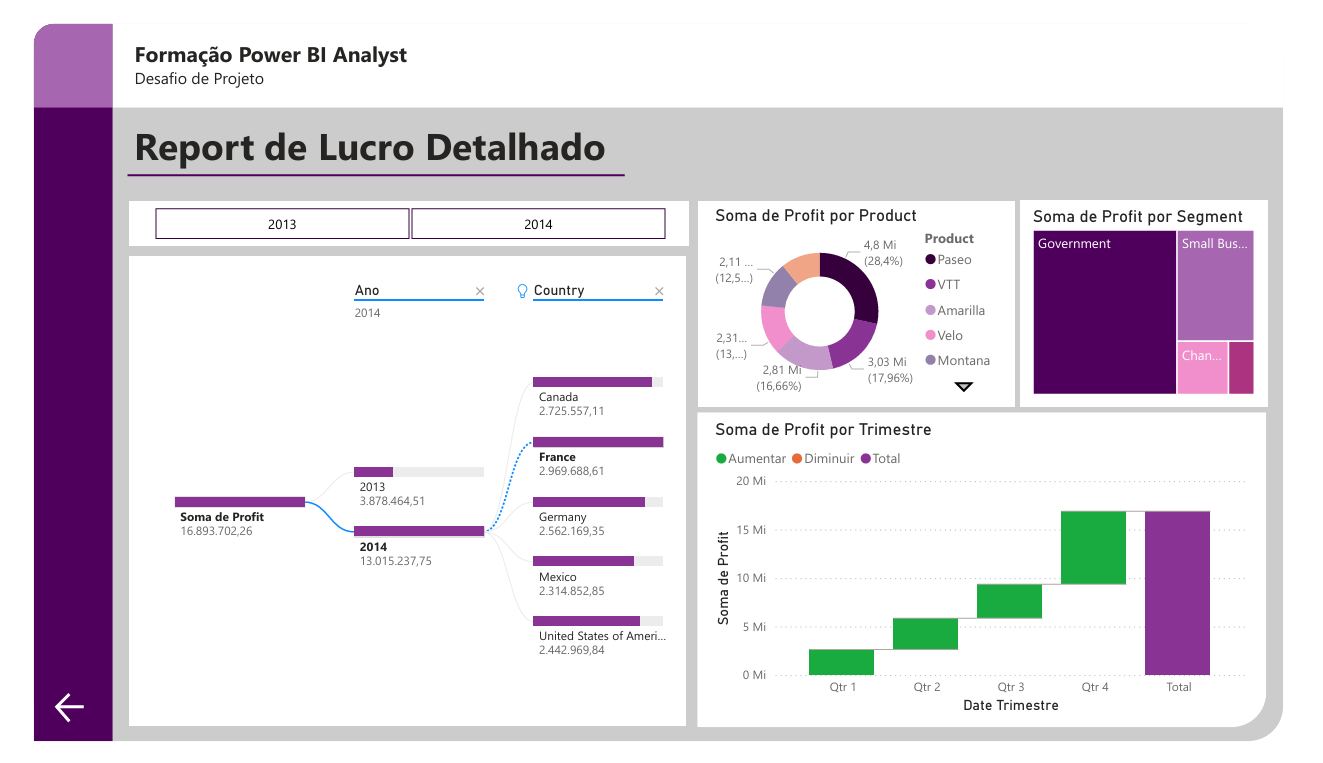

The page's visual inventory and layout, read from the dashboard file:
{"tool":"powerbi","page":{"name":"Página 2","canvas":[1280,720],"ordinal":1},"visuals":[{"type":"group","id":"g1","title":"Fundo","box":[11.4,0,1254.3,720],"z":0},{"type":"shape","box":[11.4,0,1254.3,720],"z":0,"group":"g1"},{"type":"textbox","box":[107.3,9.6,300,66.1],"z":0,"group":"g2"},{"type":"shape","box":[11.4,0,78.7,720],"z":1000,"group":"g1"},{"type":"group","id":"g2","title":"Caixas de textos","box":[106.9,9.6,495.6,143.5],"z":1000},{"type":"textbox","box":[106.9,91.8,495.6,61.3],"z":1000,"group":"g2"},{"type":"shape","box":[11.4,0,78.7,84],"z":2000,"group":"g1"},{"type":"shape","box":[677.1,390,571,315.7],"z":2000},{"type":"shape","box":[90.1,0,1175.6,84],"z":3000,"group":"g1"},{"type":"shape","box":[1001.4,177.1,247.1,207.1],"z":3000},{"type":"shape","box":[677.8,177.8,318,206.7],"z":4000},{"type":"slicer","fields":{"Values":["financials.Date.Variation.Hierarquia de datas.Ano"]},"box":[107.2,178,562.6,45],"z":4000,"group":"g1"},{"type":"shape","box":[105.1,144.5,499,15.7],"z":5000,"group":"g1"},{"type":"shape","box":[107,234,559,471],"z":5000},{"type":"decompositionTreeVisual","fields":{"Analyze":["Sum(financials.Profit)"],"ExplainBy":["financials.Date.Variation.Hierarquia de datas.Ano","financials.Country"]},"box":[123,242,529,454],"z":6000},{"type":"actionButton","box":[28.4,666.5,44.4,39.5],"z":7000},{"type":"donutChart","fields":{"Category":["financials.Product"],"Y":["Sum(financials.Profit)"]},"box":[690,182.2,296.7,194.4],"z":8000},{"type":"treemap","fields":{"Values":["Sum(financials.Profit)"],"Group":["financials.Segment"]},"box":[1008.6,182.9,232,194.3],"z":9000},{"type":"waterfallChart","fields":{"Y":["Sum(financials.Profit)"],"Category":["financials.Date.Variation.Hierarquia de datas.Trimestre"]},"box":[690,397.1,542.9,300],"z":10000}]}

Visuals, with their boxes in screenshot pixels (x1, y1, x2, y2), scaled from the page's 1280x720 canvas onto the 1323x763 screenshot:
"Fundo" group: bbox=(12, 0, 1308, 762)
shape: bbox=(12, 0, 1308, 762)
textbox: bbox=(111, 10, 421, 80)
shape: bbox=(12, 0, 93, 762)
"Caixas de textos" group: bbox=(110, 10, 623, 162)
textbox: bbox=(110, 97, 623, 162)
shape: bbox=(12, 0, 93, 89)
shape: bbox=(700, 413, 1290, 748)
shape: bbox=(93, 0, 1308, 89)
shape: bbox=(1035, 188, 1290, 407)
shape: bbox=(701, 188, 1029, 407)
slicer - financials.Date.Variation.Hierarquia de datas.Ano: bbox=(111, 189, 692, 236)
shape: bbox=(109, 153, 624, 170)
shape: bbox=(111, 248, 688, 747)
decompositionTreeVisual - Sum(financials.Profit) x financials.Date.Variation.Hierarquia de datas.Ano: bbox=(127, 256, 674, 738)
actionButton: bbox=(29, 706, 75, 748)
donutChart - financials.Product x Sum(financials.Profit): bbox=(713, 193, 1020, 399)
treemap - Sum(financials.Profit) x financials.Segment: bbox=(1042, 194, 1282, 400)
waterfallChart - Sum(financials.Profit) x financials.Date.Variation.Hierarquia de datas.Trimestre: bbox=(713, 421, 1274, 739)
